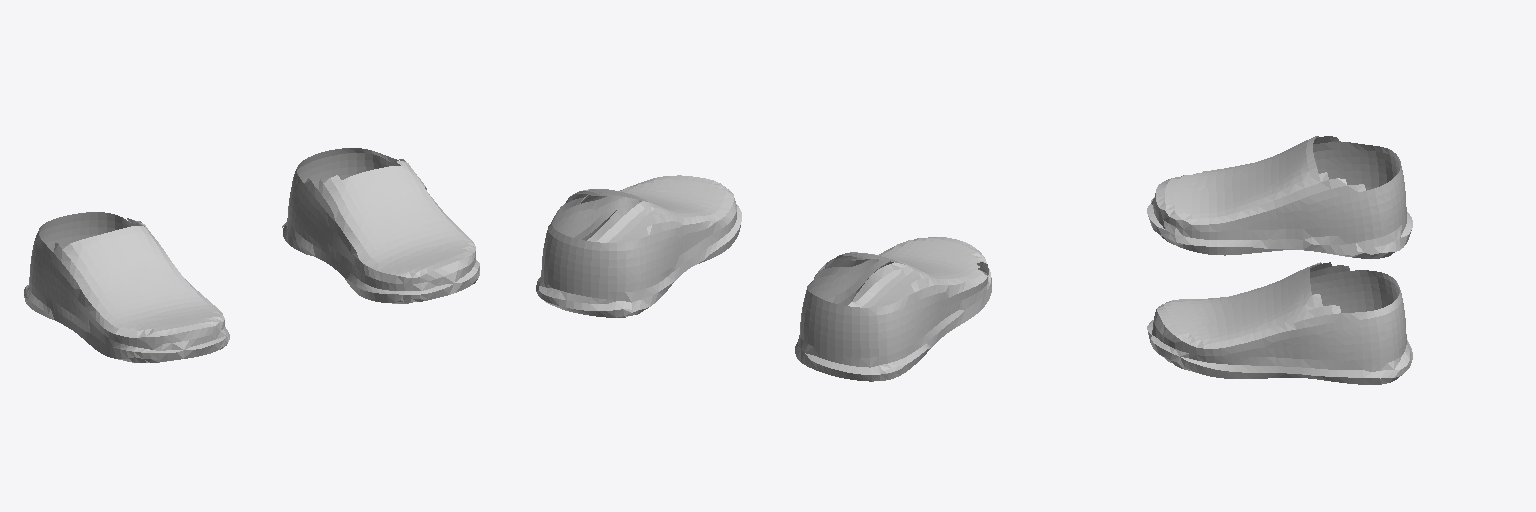
Rendered from ShoesRemeshed.obj.
The picture shows the model from 3 angles: view 1: azimuth 30°, elevation 25°; view 2: azimuth 150°, elevation 25°; view 3: azimuth 270°, elevation 25°; orthographic projection.
Size of the model in its own units: 0.1986 by 0.0449 by 0.1243.